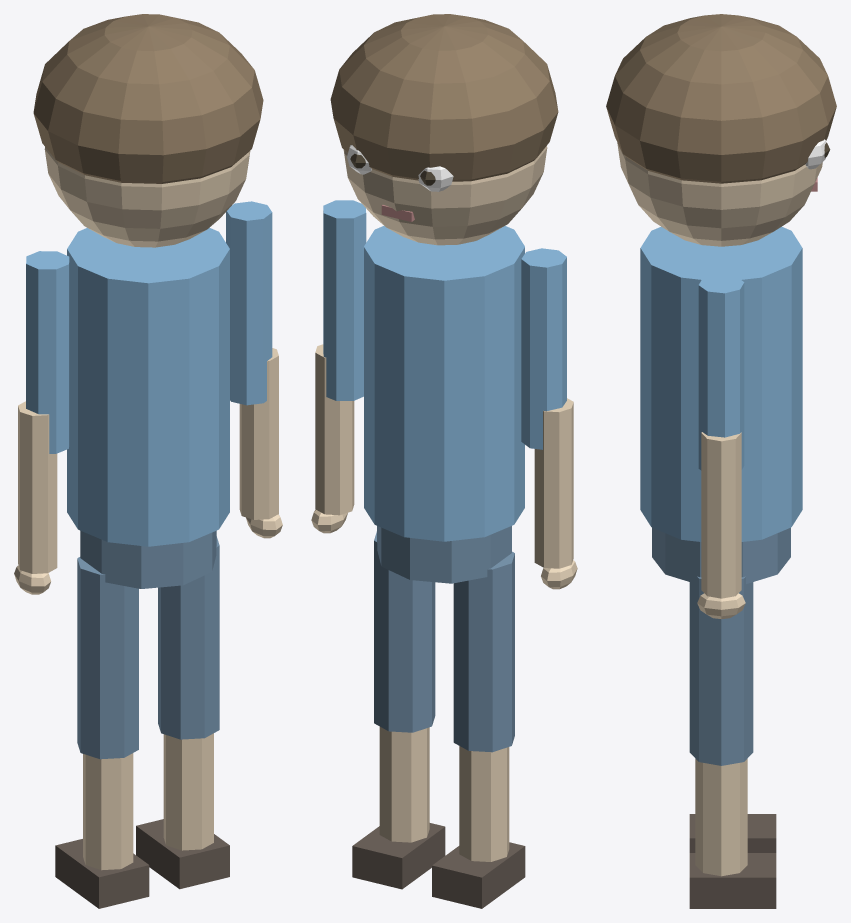
The model's file is character.glb.
3 views of the same model, side by side, from view 1: azimuth 30°, elevation 25°; view 2: azimuth 150°, elevation 25°; view 3: azimuth 270°, elevation 25° (orthographic).
Visible parts, largest first — view 1: Torso, Hair, UpperLeg_L, Head, UpperLeg_R, UpperArm_R, UpperArm_L, ForeArm_L, LowerLeg_L, LowerLeg_R, Hips, ForeArm_R (+4 smaller); view 2: Torso, Hair, UpperLeg_L, Head, UpperLeg_R, UpperArm_L, UpperArm_R, ForeArm_L, LowerLeg_R, LowerLeg_L, Hips, ForeArm_R (+5 smaller); view 3: Torso, Hair, Head, UpperLeg_R, UpperArm_R, ForeArm_R, LowerLeg_R, Hips, Shoe_R, Shoe_L, Hand_R.
Part boxes in pixels (<box>): Torso: <box>67,227,229,546</box>; Hair: <box>33,14,263,183</box>; UpperLeg_L: <box>77,557,138,759</box>; Head: <box>44,147,250,247</box>; UpperLeg_R: <box>158,536,219,739</box>; UpperArm_R: <box>226,201,272,405</box>; UpperArm_L: <box>26,251,69,453</box>; ForeArm_L: <box>18,401,57,573</box>; LowerLeg_L: <box>83,753,133,870</box>; LowerLeg_R: <box>163,733,213,850</box>; Hips: <box>80,530,216,588</box>; ForeArm_R: <box>239,348,278,519</box>; Torso: <box>364,226,524,541</box>; Hair: <box>330,14,558,181</box>; UpperLeg_L: <box>453,551,514,752</box>; Head: <box>343,146,547,245</box>; UpperLeg_R: <box>374,531,435,732</box>; UpperArm_L: <box>521,248,566,449</box>; UpperArm_R: <box>323,200,366,400</box>; ForeArm_L: <box>534,398,573,568</box>; LowerLeg_R: <box>379,727,429,842</box>; LowerLeg_L: <box>459,746,509,861</box>; Hips: <box>377,526,511,583</box>; ForeArm_R: <box>315,344,354,515</box>; Torso: <box>640,226,802,541</box>; Hair: <box>606,14,836,183</box>; Head: <box>617,142,822,246</box>; UpperLeg_R: <box>689,576,753,765</box>; UpperArm_R: <box>698,274,744,470</box>; ForeArm_R: <box>701,432,741,598</box>; LowerLeg_R: <box>695,759,747,876</box>; Hips: <box>652,527,790,583</box>; Shoe_R: <box>689,853,776,908</box>; Shoe_L: <box>689,814,776,852</box>; Hand_R: <box>697,593,745,619</box>.
Bounding box in the file's own units: 0.516 × 1.62 × 0.399.
